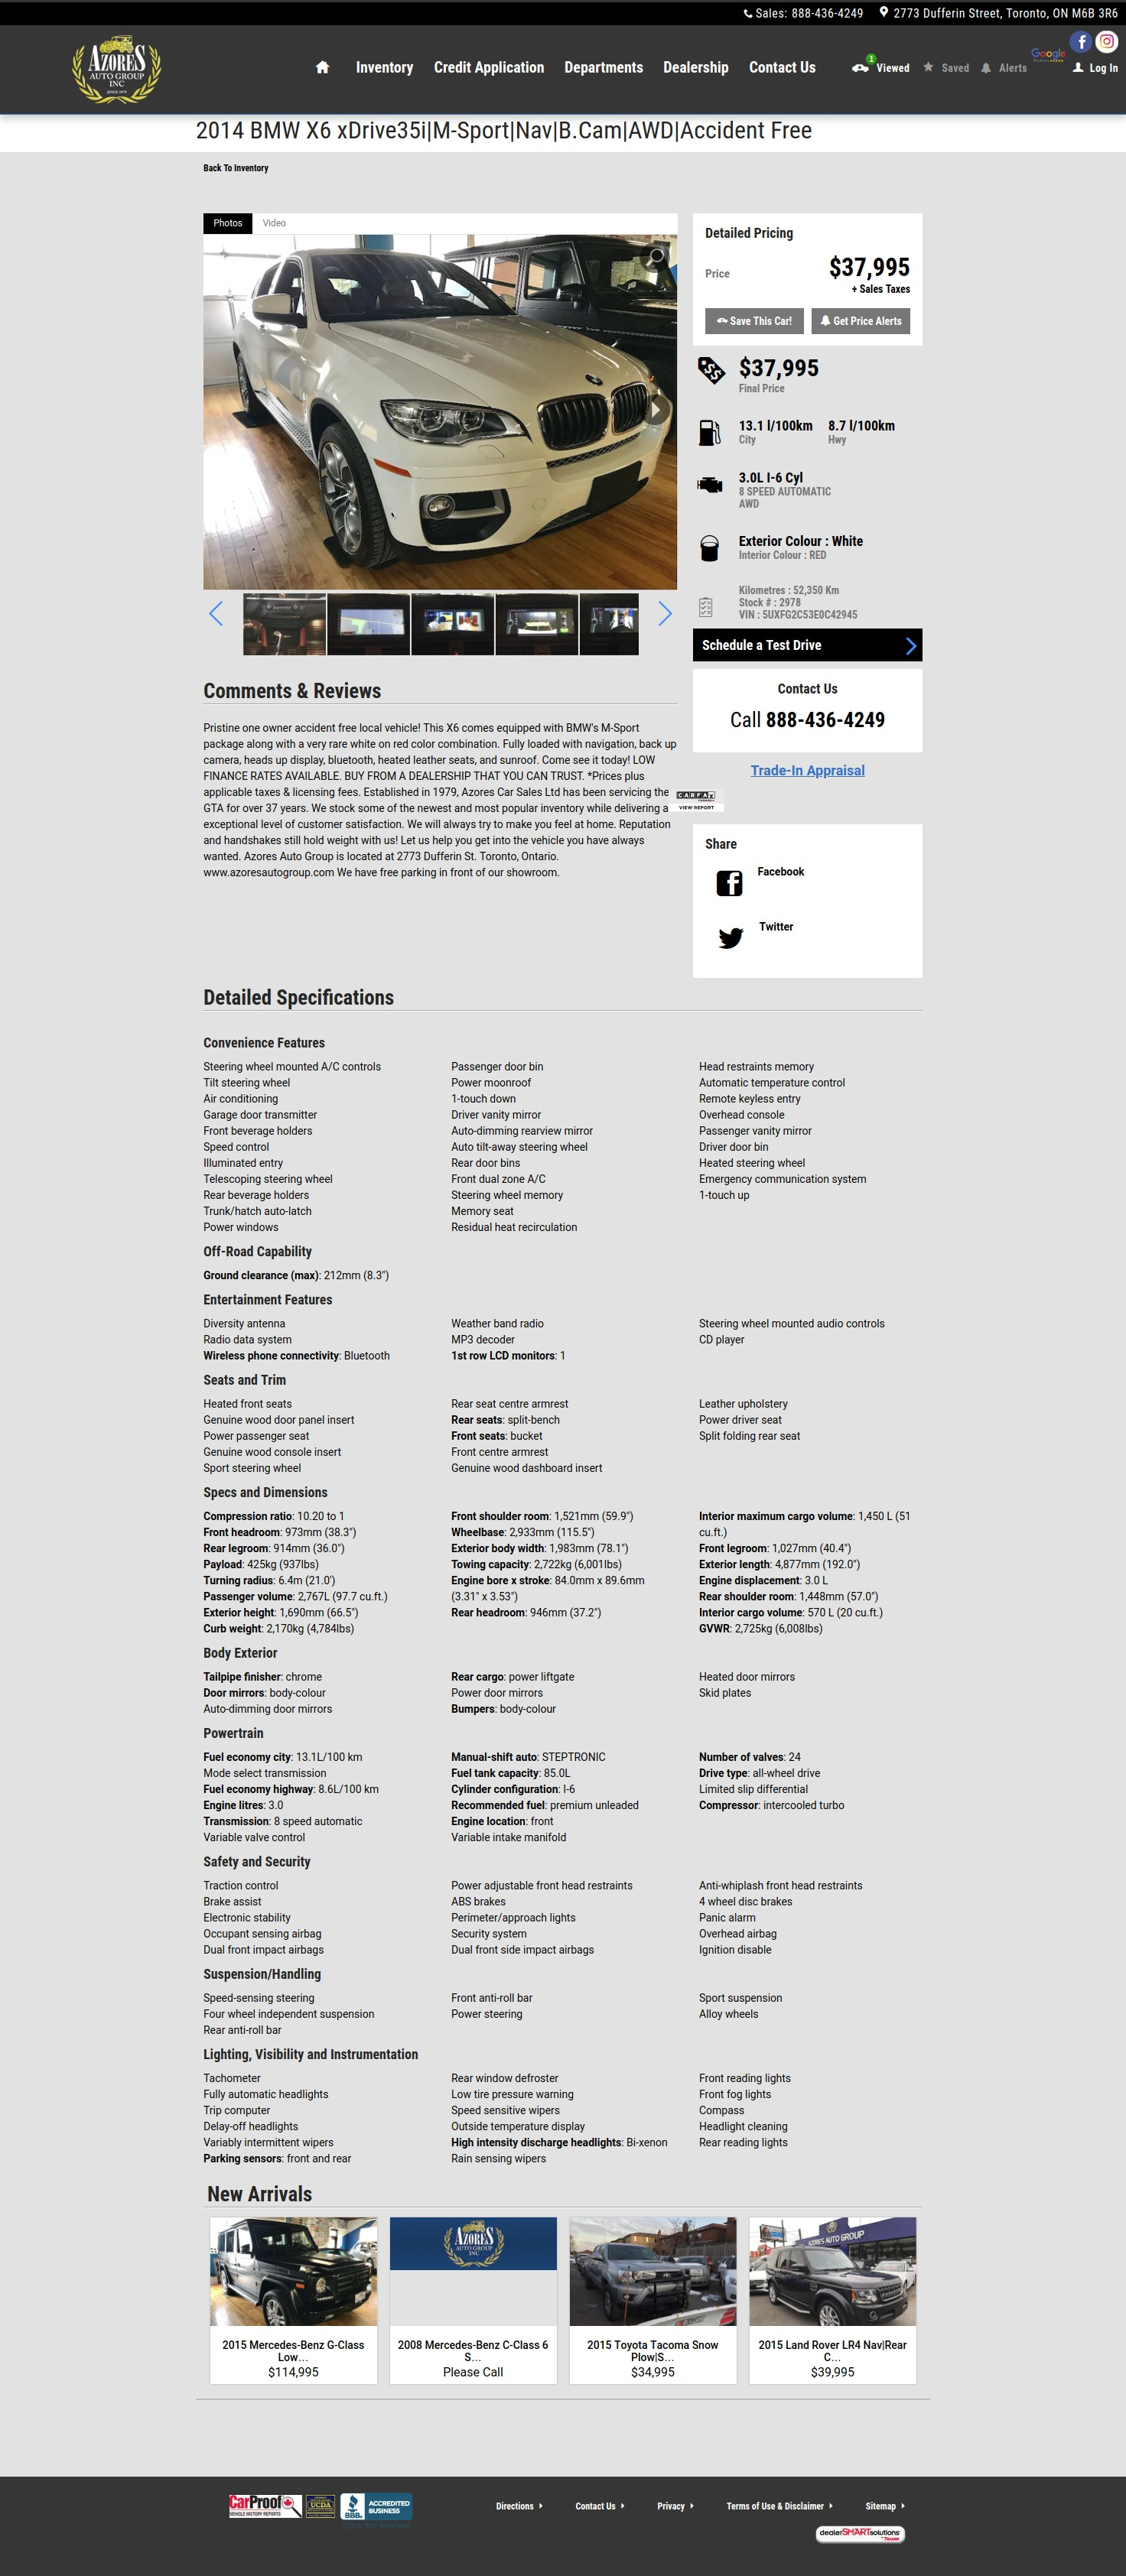car: (658, 600, 674, 629)
